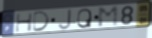8: (121, 5, 134, 26)
D: (31, 10, 51, 33)
H: (15, 12, 34, 33)
J: (58, 8, 73, 31)
M: (97, 5, 119, 29)
Q: (76, 7, 93, 29)
